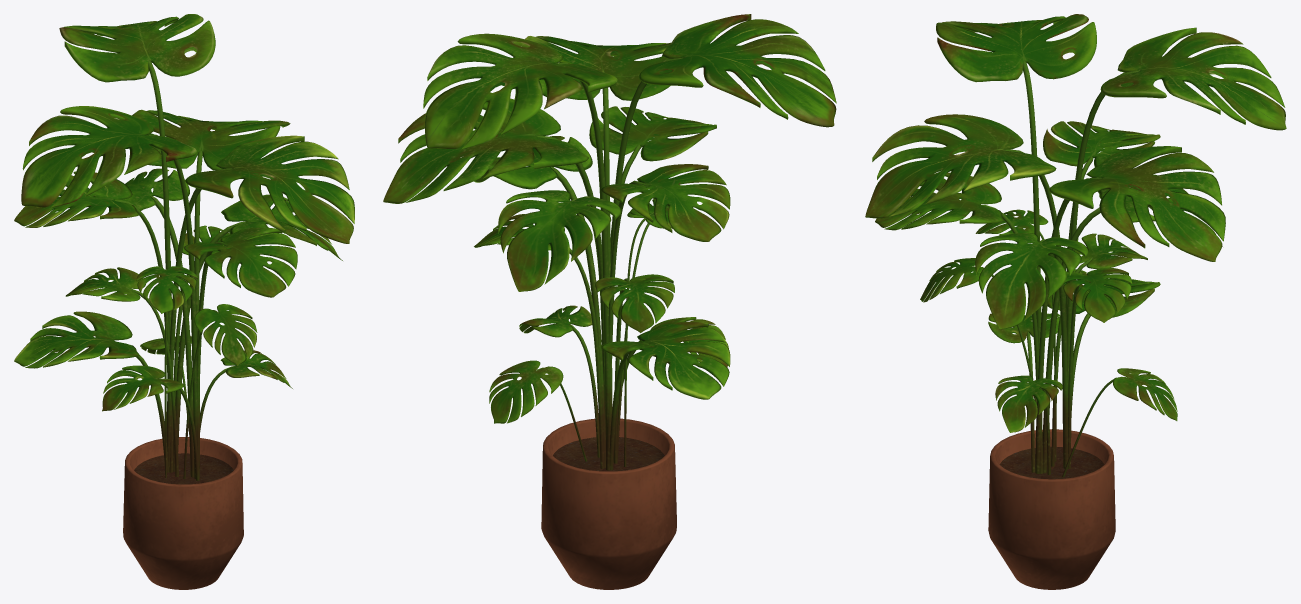
The model's file is plante.glb.
The picture shows the model from 3 angles, left to right: view 1: azimuth 30°, elevation 25°; view 2: azimuth 150°, elevation 25°; view 3: azimuth 270°, elevation 25°; orthographic projection. The views are drawn at different scales.
Visible parts, largest first — view 1: Plante_0; view 2: Plante_0; view 3: Plante_0.
Boxes of the visible parts, x1,y1,x2,y2 form: Plante_0: (14, 14, 354, 589); Plante_0: (383, 14, 836, 589); Plante_0: (865, 14, 1286, 589).
Size of the model in its own units: 0.9953 by 1.45 by 1.06.
Materials: 1 (1 with a texture image).
